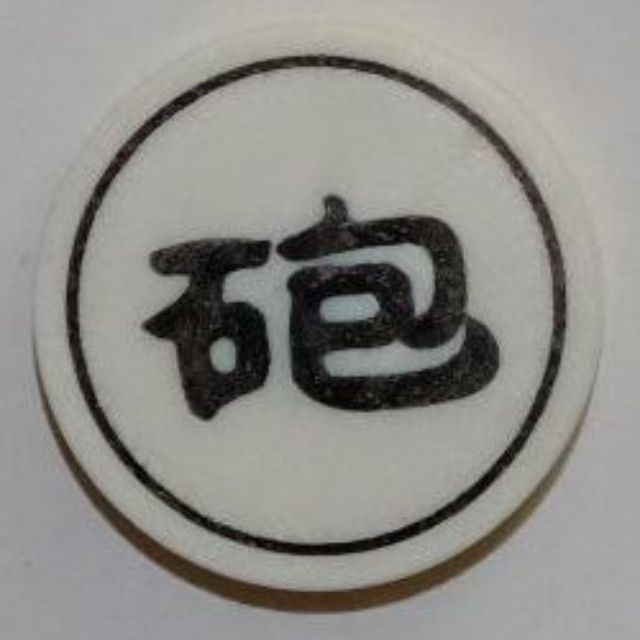black_phao: (33, 19, 609, 603)
